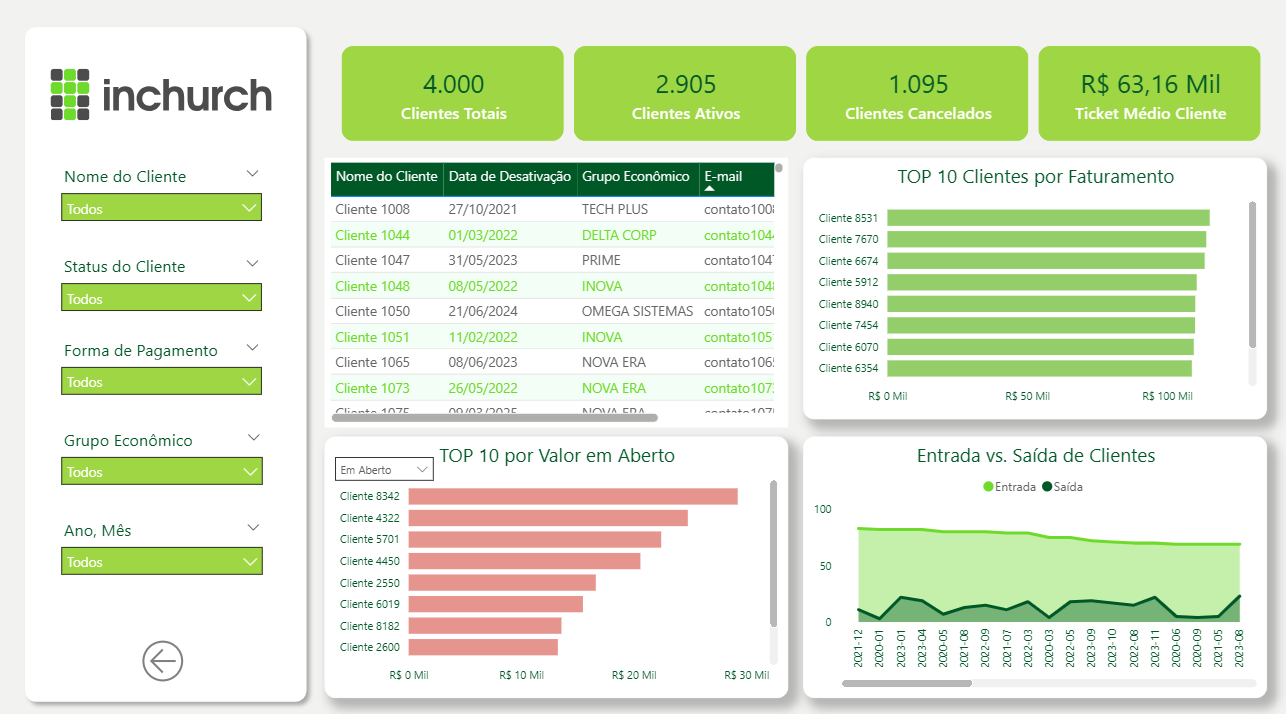

Layout of this report page (visuals, bound fields, positions):
{"tool":"powerbi","page":{"name":"Visão Cliente","canvas":[1280,720],"ordinal":2},"visuals":[{"type":"shape","box":[22.9,27.7,294.4,680.4],"z":0,"group":"g1"},{"type":"clusteredBarChart","fields":{"Y":["Medidas.Inadimplência"],"Category":["fBaseConsolidada.nome_cliente"]},"box":[326,439,455.4,256.6],"z":0},{"type":"clusteredBarChart","title":"TOP 10 Clientes por Faturamento","fields":{"Category":["fBaseConsolidada.nome_cliente"],"Y":["Medidas (Visão Geral Financeira).VL_Total_Faturado"]},"box":[796,166,455.4,256.6],"z":1000},{"type":"tableEx","fields":{"Values":["fBaseConsolidada.nome_cliente","fBaseConsolidada.data_desativacao","fBaseConsolidada.grupo_economico","fBaseConsolidada.email"]},"box":[326,166,455.4,264.7],"z":2000},{"type":"lineChart","title":"Entrada vs. Saída de Clientes","fields":{"Y":["Medidas (Visão Geral Financeira).Novos_Clientes","Medidas (Visão Geral Financeira).Churn_Clientes"],"Category":["dCalendario.Ano Mês"]},"box":[796,439,455.4,256.6],"z":3000},{"type":"cardVisual","fields":{"Data":["Medidas (Visão Geral Financeira).Clientes_Unicos","Medidas (Visão Geral Financeira).Clientes_Ativos","Medidas (Visão Geral Financeira).Clientes_Cancelados","Medidas (Visão Geral Financeira).Ticket_Medio_Cliente"]},"box":[326,39,939,127.6],"z":4000},{"type":"slicer","fields":{"Values":["dCalendario.Date.Variation.Hierarquia de datas.Ano","dCalendario.Date.Variation.Hierarquia de datas.Mês"]},"box":[56.7,513.9,218,71.2],"z":4000,"group":"g1"},{"type":"group","id":"g1","title":"Grupo 1","box":[22.9,27.7,294.4,680.4],"z":5000},{"type":"image","box":[56.7,55.4,217.2,94.1],"z":5000,"group":"g1"},{"type":"actionButton","box":[141.2,633.4,56.7,53.1],"z":6000},{"type":"slicer","fields":{"Values":["Escolha sua Visão.Escolha sua Visão"]},"box":[326,448.6,117,33.4],"z":7000},{"type":"slicer","fields":{"Values":["fBaseConsolidada.grupo_economico"]},"box":[56.7,425.5,218.4,72.4],"z":8000,"group":"g1"},{"type":"slicer","fields":{"Values":["fBaseConsolidada.nome_cliente"]},"box":[56.7,166.4,217.2,72.4],"z":9000,"group":"g1"},{"type":"slicer","fields":{"Values":["fBaseConsolidada.forma_pagamento"]},"box":[56.7,337.2,217.2,72.4],"z":10000,"group":"g1"},{"type":"slicer","fields":{"Values":["fBaseConsolidada.status_cliente"]},"box":[56.7,254.8,217.2,66.4],"z":11000,"group":"g1"}]}

Visuals, with their boxes in screenshot pixels (x1, y1, x2, y2), scaled from the page's 1280x720 canvas onto the 1286x714 screenshot:
shape: bbox(23, 27, 319, 702)
clusteredBarChart - Medidas.Inadimplência x fBaseConsolidada.nome_cliente: bbox(328, 435, 785, 690)
"TOP 10 Clientes por Faturamento" clusteredBarChart: bbox(800, 165, 1257, 419)
tableEx - fBaseConsolidada.nome_cliente x fBaseConsolidada.data_desativacao: bbox(328, 165, 785, 427)
"Entrada vs. Saída de Clientes" lineChart: bbox(800, 435, 1257, 690)
cardVisual - Medidas (Visão Geral Financeira).Clientes_Unicos x Medidas (Visão Geral Financeira).Clientes_Ativos: bbox(328, 39, 1271, 165)
slicer - dCalendario.Date.Variation.Hierarquia de datas.Ano x dCalendario.Date.Variation.Hierarquia de datas.Mês: bbox(57, 510, 276, 580)
"Grupo 1" group: bbox(23, 27, 319, 702)
image: bbox(57, 55, 275, 148)
actionButton: bbox(142, 628, 199, 681)
slicer - Escolha sua Visão.Escolha sua Visão: bbox(328, 445, 445, 478)
slicer - fBaseConsolidada.grupo_economico: bbox(57, 422, 276, 494)
slicer - fBaseConsolidada.nome_cliente: bbox(57, 165, 275, 237)
slicer - fBaseConsolidada.forma_pagamento: bbox(57, 334, 275, 406)
slicer - fBaseConsolidada.status_cliente: bbox(57, 253, 275, 319)
